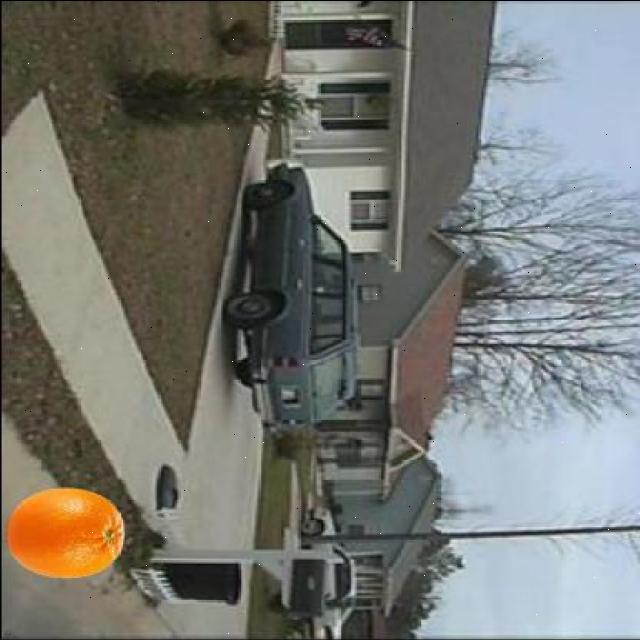Orange: (5, 486, 126, 580)
